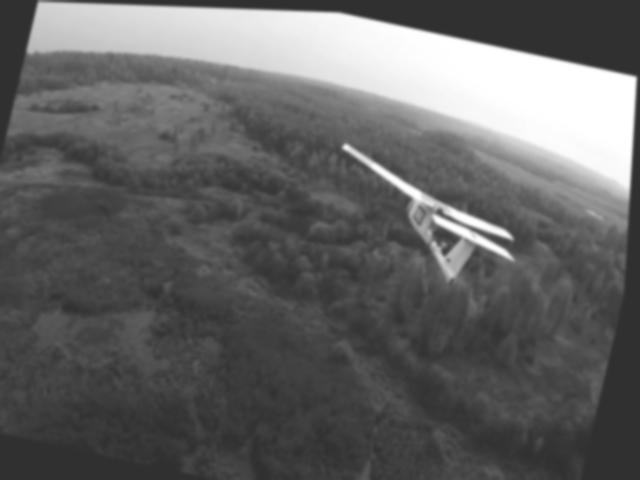hedef: (310, 132, 552, 309)
